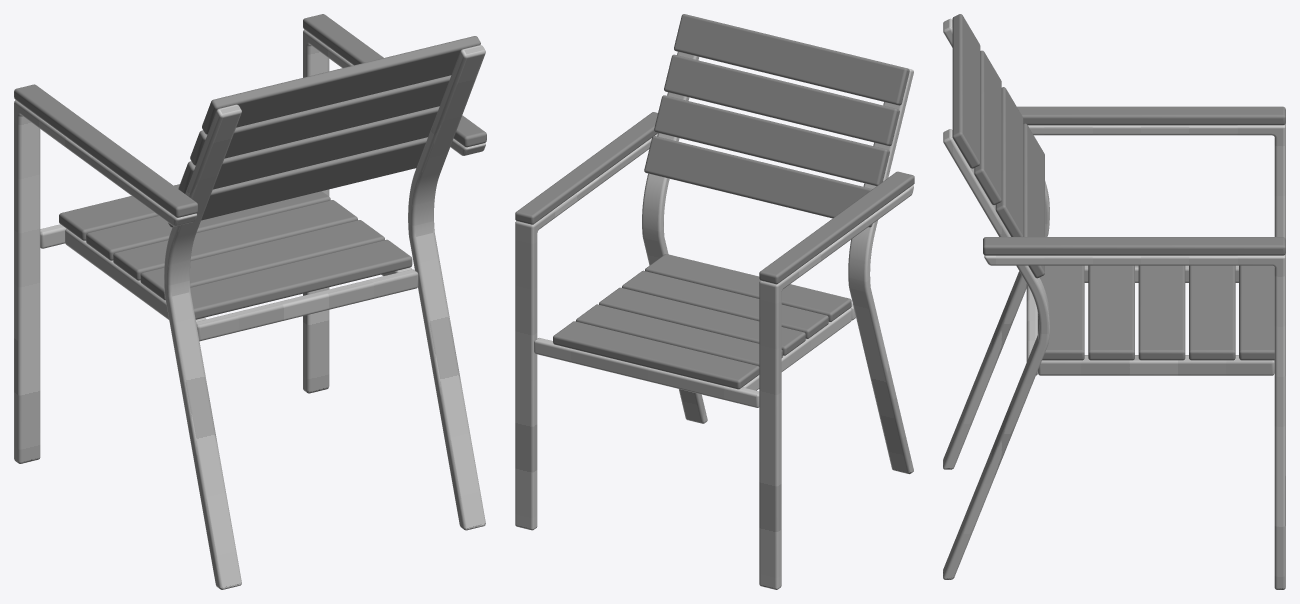
3 renders of one model, left to right at view 1: azimuth 30°, elevation 25°; view 2: azimuth 150°, elevation 25°; view 3: azimuth 270°, elevation 25°, orthographic. The views are drawn at different scales.
Parts seen in each view (by area): view 1: Компонент_11_ID135, Компонент_9_ID18, Компонент_6_ID123, Компонент_8_ID69, Компонент_10_ID102, group_0_ID3, Компонент_7_ID58; view 2: Компонент_11_ID135, Компонент_6_ID123, Компонент_8_ID69, Компонент_9_ID18, Компонент_10_ID102, Компонент_1_ID113, Компонент_7_ID58; view 3: Компонент_6_ID123, Компонент_11_ID135, Компонент_8_ID69, Компонент_10_ID102, Компонент_9_ID18, Компонент_7_ID58, group_0_ID3.
Boxes of the visible parts, box(x1,y1,x2,y2) form: Компонент_11_ID135: box(168, 36, 480, 227); Компонент_9_ID18: box(164, 45, 485, 587); Компонент_6_ID123: box(59, 184, 412, 319); Компонент_8_ID69: box(14, 29, 485, 462); Компонент_10_ID102: box(14, 14, 486, 217); group_0_ID3: box(196, 269, 418, 341); Компонент_7_ID58: box(65, 229, 411, 321); Компонент_11_ID135: box(644, 14, 909, 227); Компонент_6_ID123: box(553, 254, 851, 389); Компонент_8_ID69: box(515, 133, 913, 588); Компонент_9_ID18: box(642, 51, 913, 472); Компонент_10_ID102: box(515, 112, 914, 284); Компонент_1_ID113: box(534, 338, 759, 407); Компонент_7_ID58: box(742, 308, 851, 390); Компонент_6_ID123: box(1038, 265, 1274, 360); Компонент_11_ID135: box(952, 14, 1044, 278); Компонент_8_ID69: box(984, 123, 1285, 588); Компонент_10_ID102: box(983, 106, 1285, 255); Компонент_9_ID18: box(943, 18, 1049, 578); Компонент_7_ID58: box(1038, 265, 1274, 375); group_0_ID3: box(1026, 284, 1037, 375).
Size of the model in its own units: 0.4839 by 0.7189 by 0.499.
